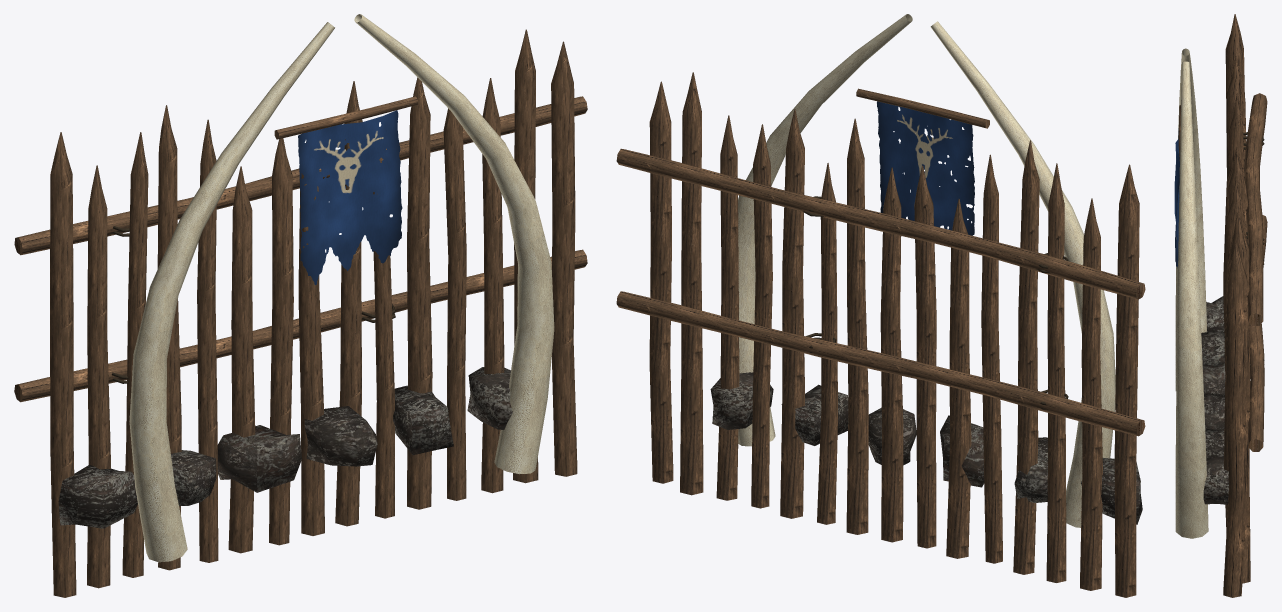
The model's file is SM_Bld_North_FenceB.gltf.
3 renders of one model, left to right at view 1: azimuth 30°, elevation 25°; view 2: azimuth 150°, elevation 25°; view 3: azimuth 270°, elevation 25°, orthographic. The views are drawn at different scales.
Parts seen in each view (by area): view 1: SM_Bld_North_FenceB; view 2: SM_Bld_North_FenceB; view 3: SM_Bld_North_FenceB.
Boxes of the visible parts, x1,y1,x2,y2 form: SM_Bld_North_FenceB: (14, 14, 587, 597); SM_Bld_North_FenceB: (616, 14, 1145, 597); SM_Bld_North_FenceB: (1174, 14, 1267, 597).
Bounding box in the file's own units: 4.2 × 3.83 × 0.7352.
Materials: 5 (5 with a texture image).
